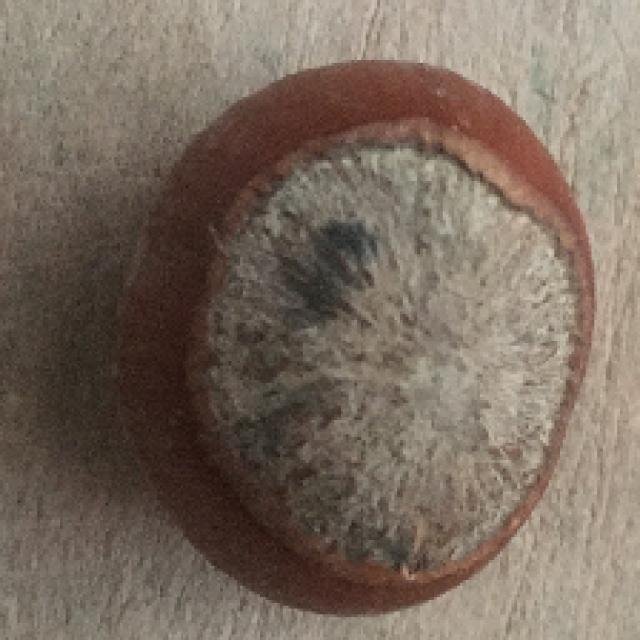qualityHazelnut: (120, 59, 598, 616)
